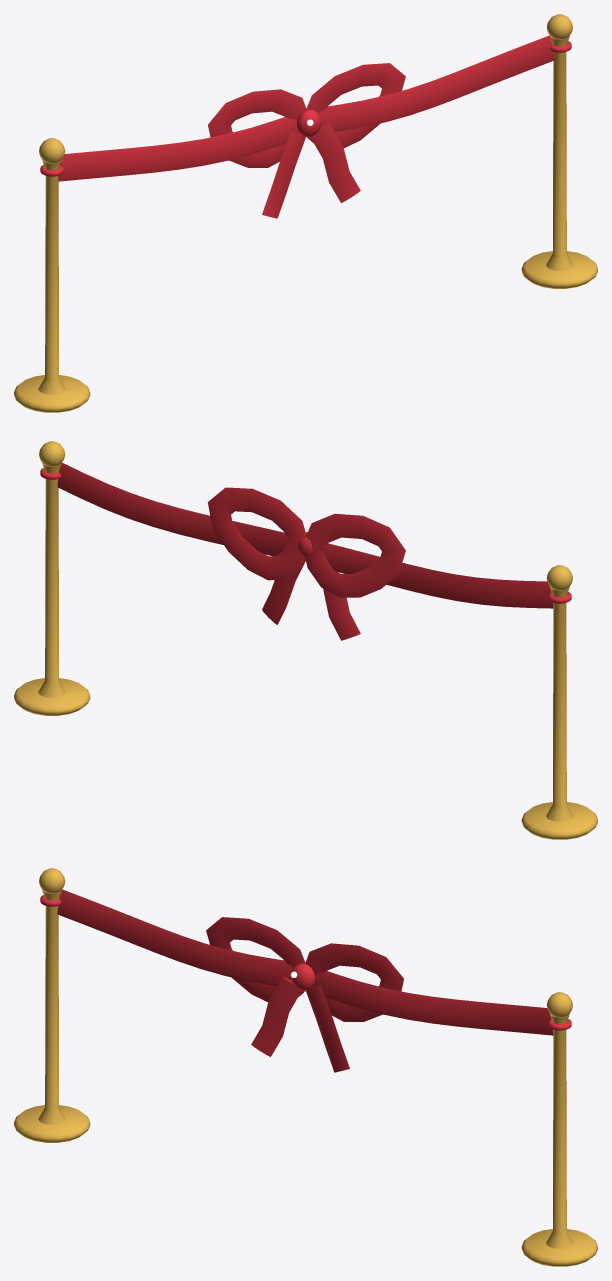
The model's file is prop_ribbon.glb.
The picture shows the model from 3 angles, top to bottom: view 1: azimuth 30°, elevation 25°; view 2: azimuth 150°, elevation 25°; view 3: azimuth 330°, elevation 25°; orthographic projection.
Parts seen in each view (by area): view 1: Posts, RibbonL, RibbonR; view 2: Posts, RibbonL, RibbonR; view 3: Posts, RibbonL, RibbonR.
Part boxes in pixels (bbox=[...]): Posts: bbox=[14, 14, 597, 412]; RibbonL: bbox=[58, 89, 321, 218]; RibbonR: bbox=[306, 35, 554, 202]; Posts: bbox=[14, 441, 597, 839]; RibbonL: bbox=[298, 513, 553, 640]; RibbonR: bbox=[57, 462, 306, 624]; Posts: bbox=[14, 868, 597, 1266]; RibbonL: bbox=[57, 889, 315, 1056]; RibbonR: bbox=[305, 943, 553, 1072].
Size of the model in its own units: 2.26 by 0.9774 by 0.26.
